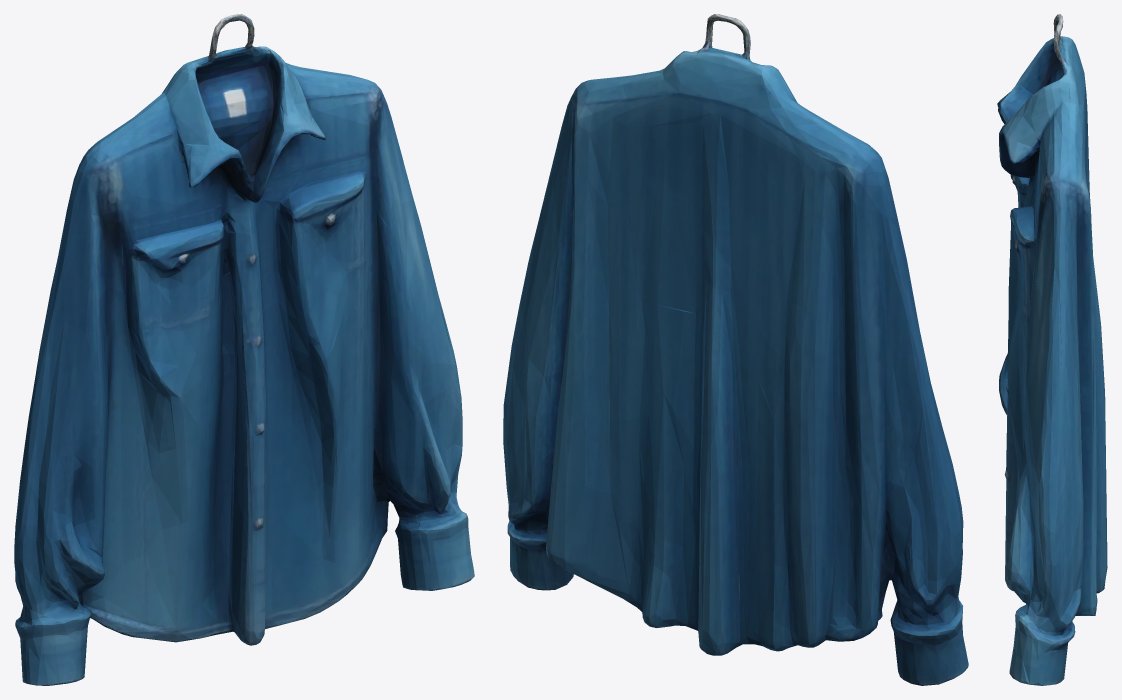
3 renders of one model, left to right at view 1: azimuth 30°, elevation 25°; view 2: azimuth 150°, elevation 25°; view 3: azimuth 270°, elevation 25°, orthographic. The views are drawn at different scales.
Visible parts, largest first — view 1: geometry_0; view 2: geometry_0; view 3: geometry_0.
Part boxes in pixels (x1,y1,x2,y2): geometry_0: (14, 14, 474, 685); geometry_0: (503, 14, 968, 685); geometry_0: (997, 14, 1107, 685).
Bounding box in the file's own units: 0.765 × 0.9993 × 0.1731.
Materials: 1 (1 with a texture image).
